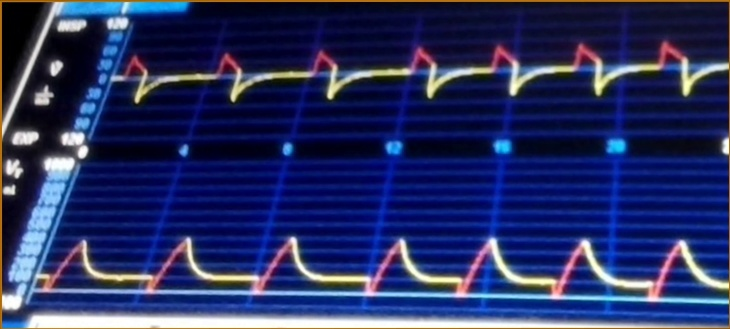Flow: (123, 36, 728, 137)
Leakage Volume: (55, 206, 727, 313)
